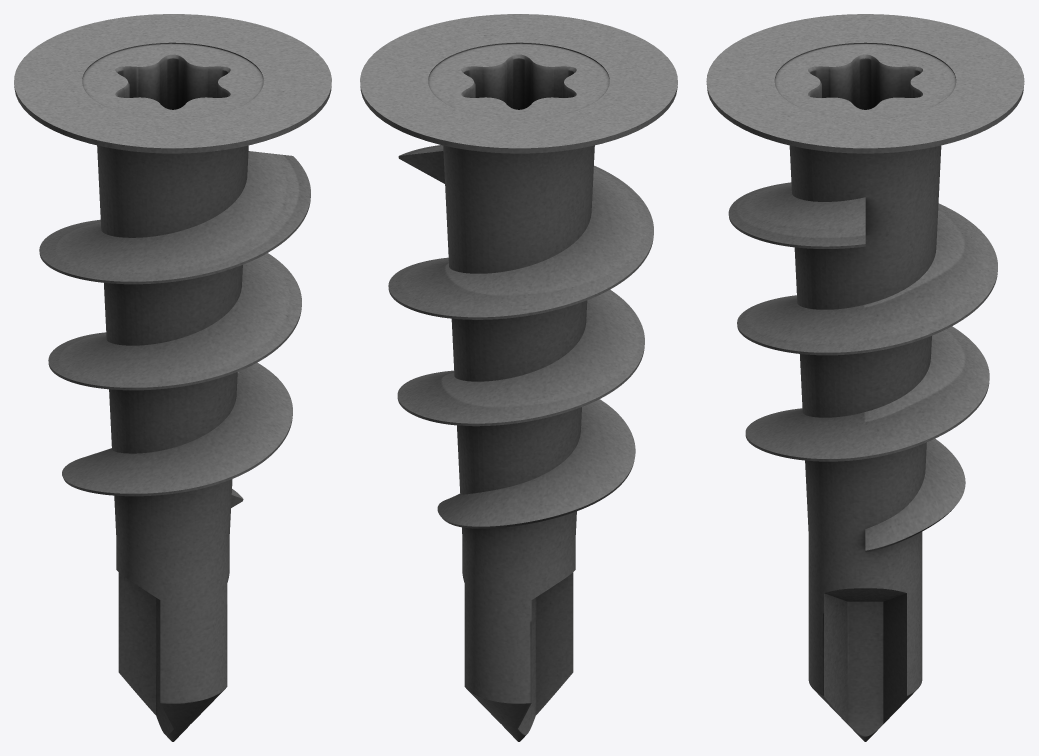
The picture shows the model from 3 angles, left to right: view 1: azimuth 30°, elevation 25°; view 2: azimuth 150°, elevation 25°; view 3: azimuth 270°, elevation 25°; orthographic projection.
Parts seen in each view (by area): view 1: A_MAIN_BODY; view 2: A_MAIN_BODY; view 3: A_MAIN_BODY.
Boxes of the visible parts, bbox=[...] form: A_MAIN_BODY: bbox=[14, 14, 331, 741]; A_MAIN_BODY: bbox=[360, 14, 677, 741]; A_MAIN_BODY: bbox=[706, 14, 1024, 741].
Bounding box in the file's own units: 0.014 × 0.0321 × 0.014.
1 material, 1 textured.
